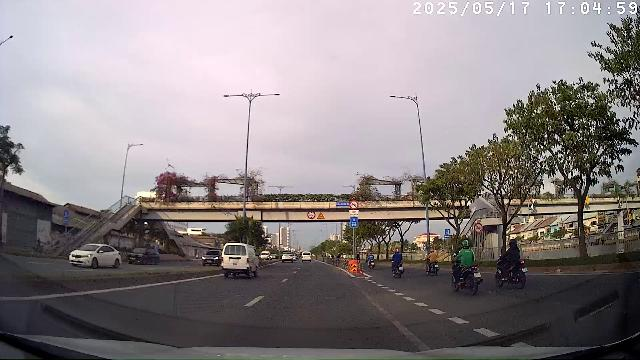103a-cam-oto: (473, 223, 482, 233)
